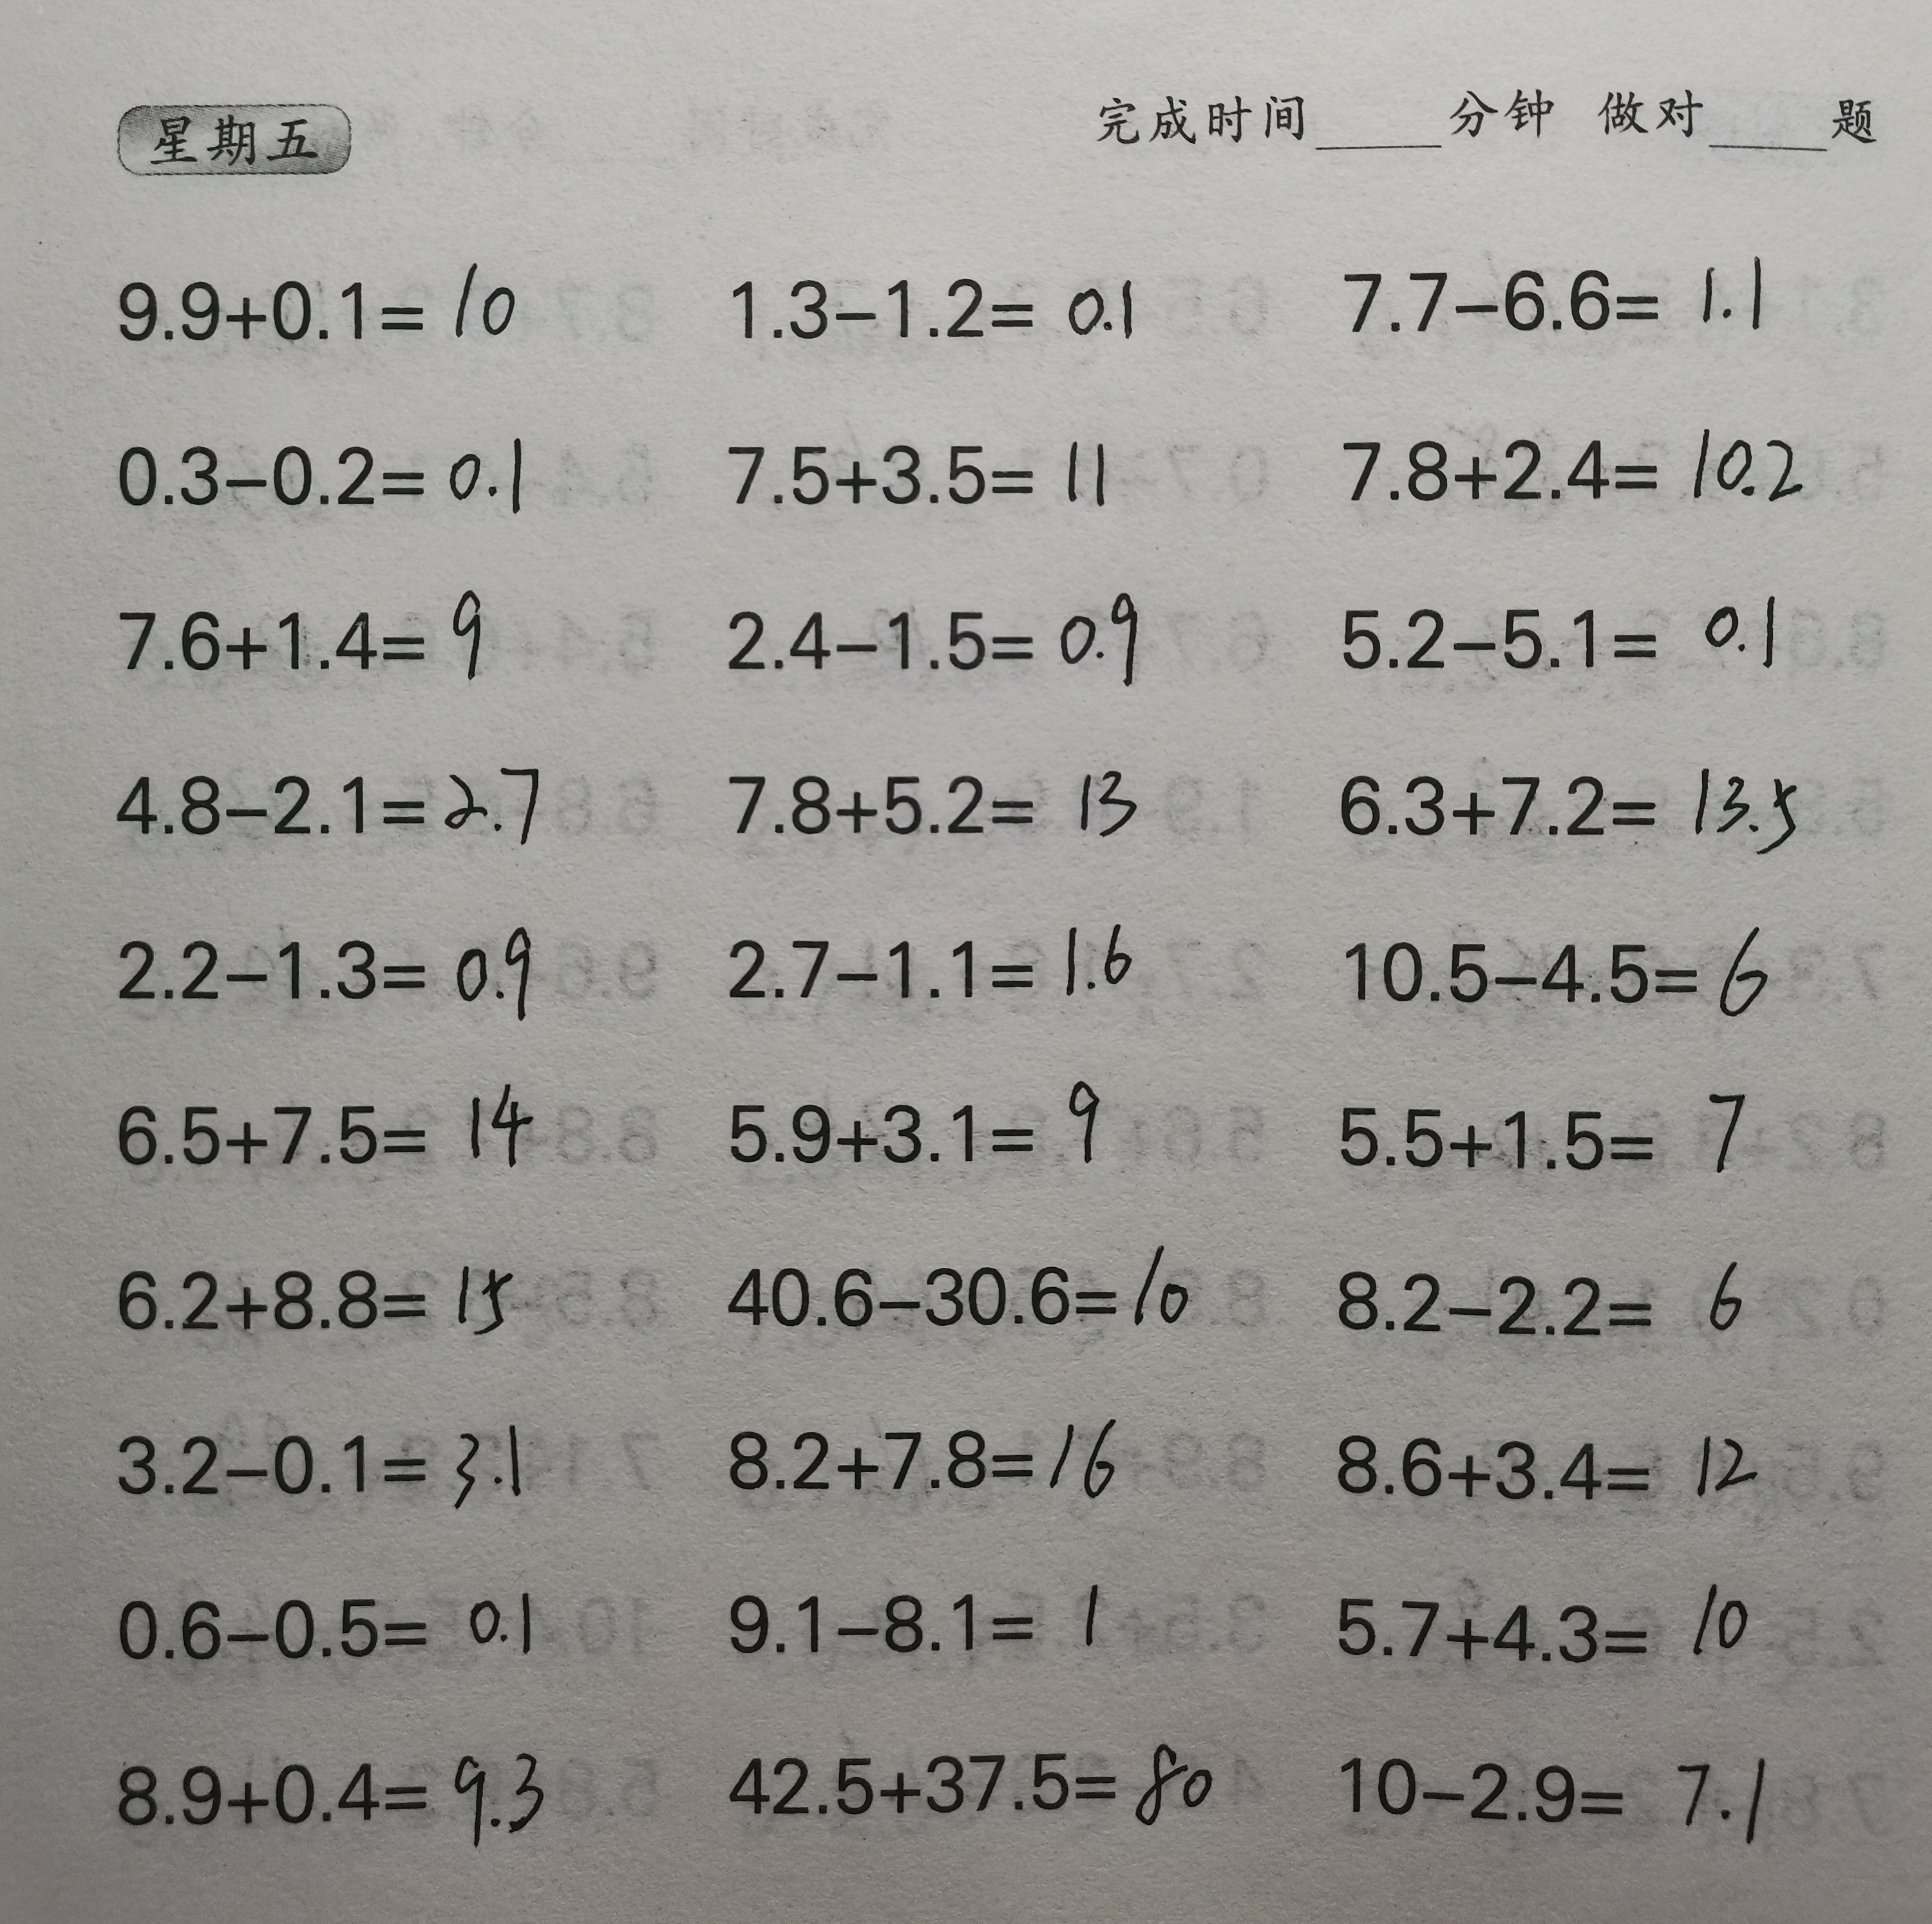equation: (1315, 740, 1809, 869), (1306, 1385, 1761, 1515), (1317, 1068, 1779, 1195), (1326, 1739, 1814, 1859), (97, 1718, 554, 1845), (716, 1233, 1204, 1350), (1341, 907, 1777, 1036), (92, 744, 554, 862), (1329, 412, 1810, 525), (719, 1732, 1234, 1836), (716, 735, 1141, 860), (714, 576, 1155, 696), (1320, 1568, 1775, 1683), (99, 405, 541, 522), (97, 1570, 559, 1681), (719, 1057, 1114, 1186), (707, 1556, 1133, 1674), (1329, 569, 1793, 675), (109, 911, 550, 1022), (705, 412, 1126, 527), (90, 571, 502, 685), (88, 1242, 539, 1346), (703, 247, 1162, 349), (93, 1069, 534, 1175), (106, 1413, 545, 1519), (1336, 240, 1786, 342), (1308, 1240, 1752, 1343), (723, 1401, 1126, 1510), (724, 909, 1156, 1010), (102, 247, 532, 347)
